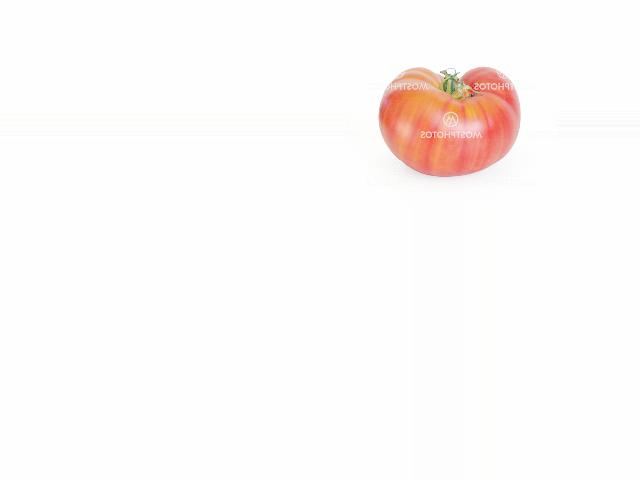tomato: (378, 66, 519, 176)
